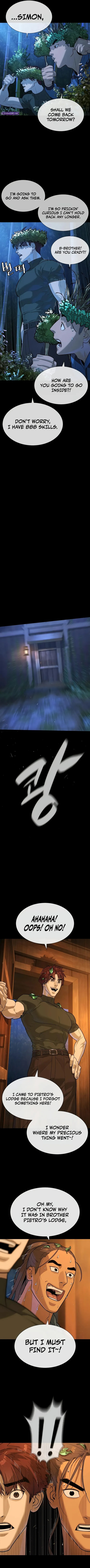bubbles: (2, 1069, 89, 1157), (1, 178, 89, 232), (8, 1187, 81, 1241), (13, 1319, 78, 1369), (1, 397, 64, 447), (14, 902, 75, 950), (33, 361, 89, 405), (37, 92, 85, 132), (4, 1, 54, 38), (50, 235, 90, 269)
